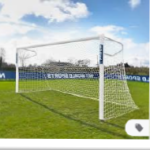goals: (13, 31, 142, 118)
